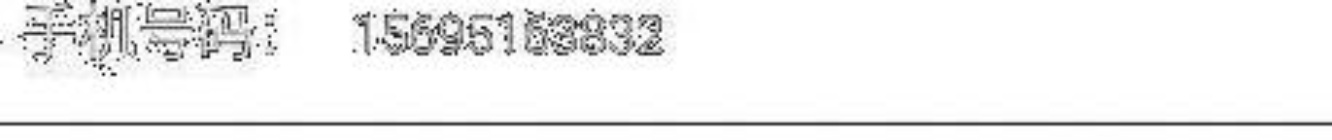EditText: (1, 1, 1331, 139)
